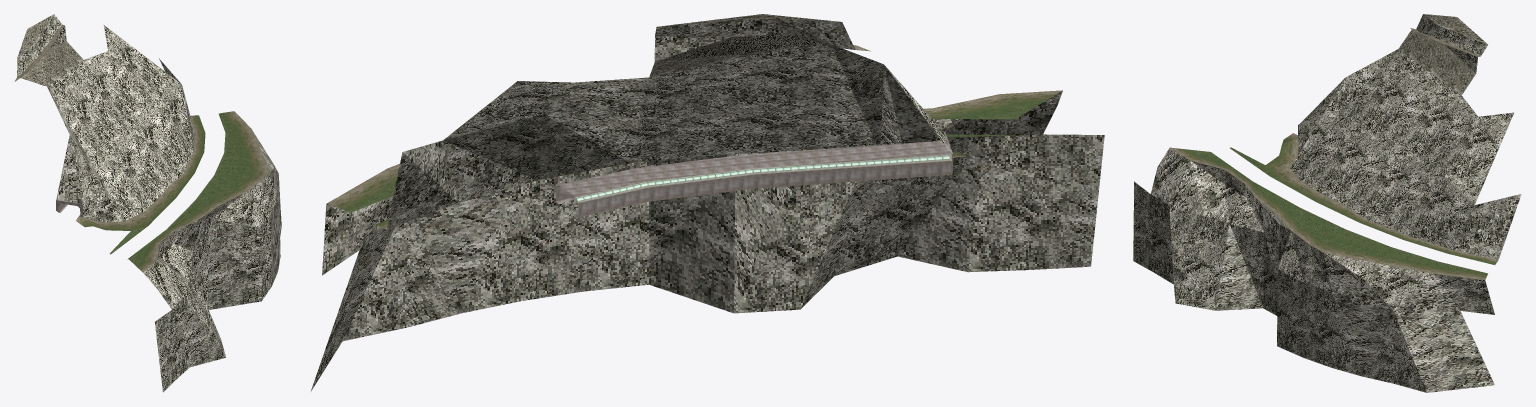
File: lod_cs_landbit_35.obj
3 views of the same model, side by side, from view 1: azimuth 30°, elevation 25°; view 2: azimuth 150°, elevation 25°; view 3: azimuth 270°, elevation 25° (orthographic). The views are drawn at different scales.
Visible parts, largest first — view 1: lod_cs_landbit_35; view 2: lod_cs_landbit_35; view 3: lod_cs_landbit_35.
Boxes of the visible parts, x1,y1,x2,y2 form: lod_cs_landbit_35: (14,14,281,392); lod_cs_landbit_35: (310,14,1104,391); lod_cs_landbit_35: (1133,14,1521,392).
Bounding box in the file's own units: 193 × 163 × 226.
8 materials, 8 textured.
